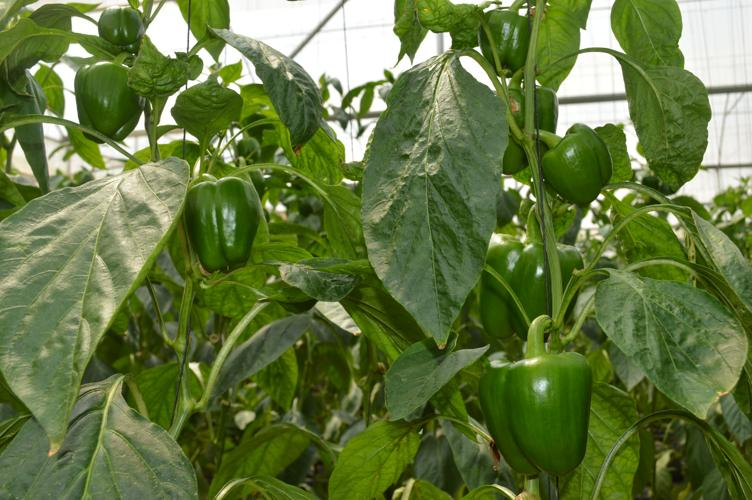BellPepper: (477, 348, 594, 483), (485, 241, 584, 346), (178, 177, 263, 274), (71, 63, 147, 151), (493, 85, 557, 174), (541, 122, 606, 209), (473, 12, 526, 70), (96, 9, 143, 47)
